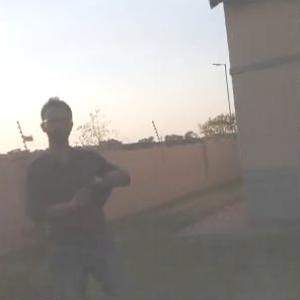follow: (23, 88, 139, 299)
